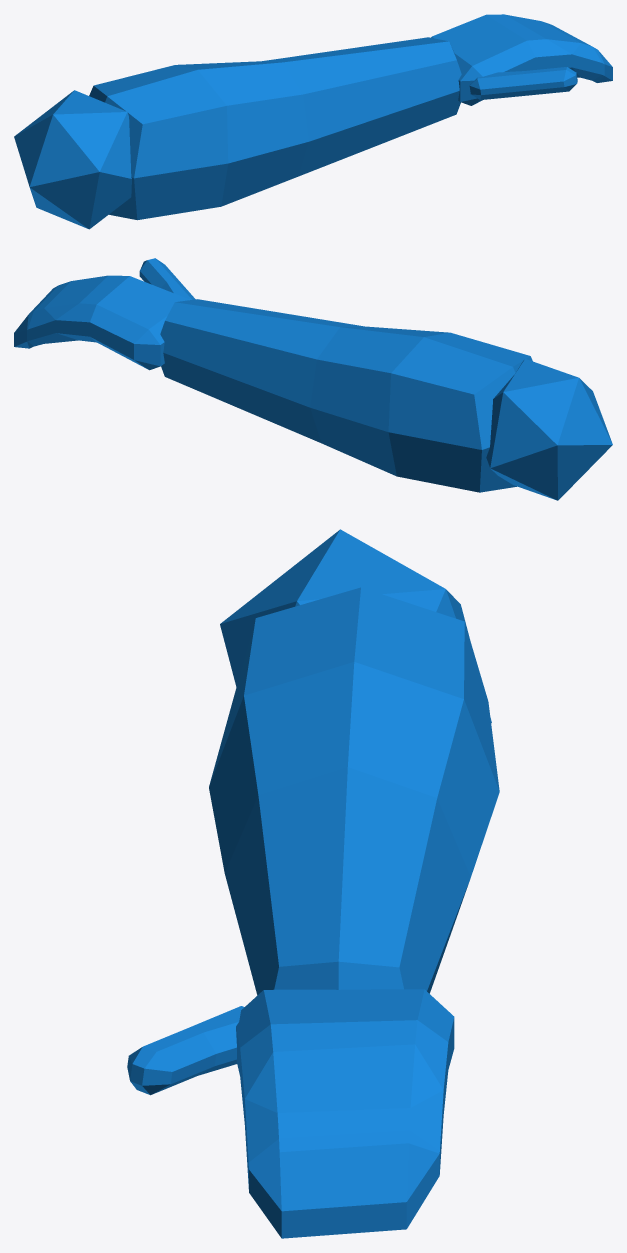
File: RIGHT_FOREARM.fbx
3 renders of one model, top to bottom at view 1: azimuth 30°, elevation 25°; view 2: azimuth 150°, elevation 25°; view 3: azimuth 270°, elevation 25°, orthographic. The views are drawn at different scales.
Visible parts, largest first — view 1: RIGHT_ELBOW; view 2: RIGHT_ELBOW; view 3: RIGHT_ELBOW.
Boxes of the visible parts, box(x1,y1,x2,y2) form: RIGHT_ELBOW: box(14, 14, 612, 229); RIGHT_ELBOW: box(14, 258, 612, 500); RIGHT_ELBOW: box(127, 529, 499, 1238).
Size of the model in its own units: 0.7484 by 0.1641 by 0.2105.
